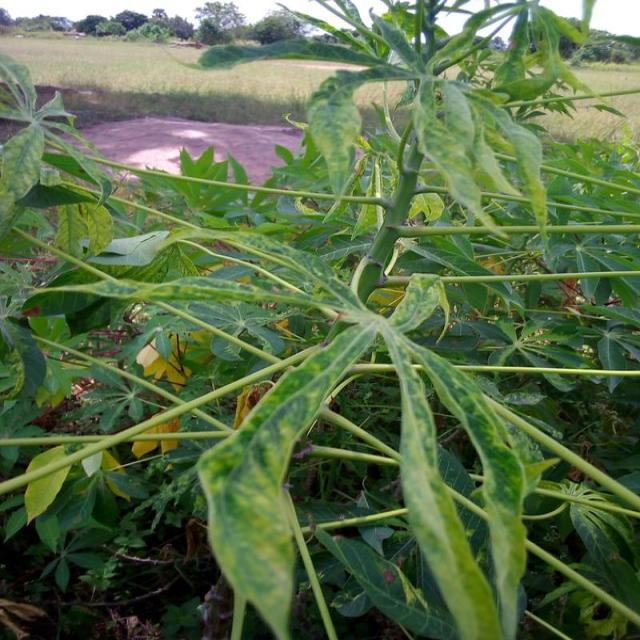cassava leaf: (0, 1, 638, 638), (195, 317, 378, 638)
